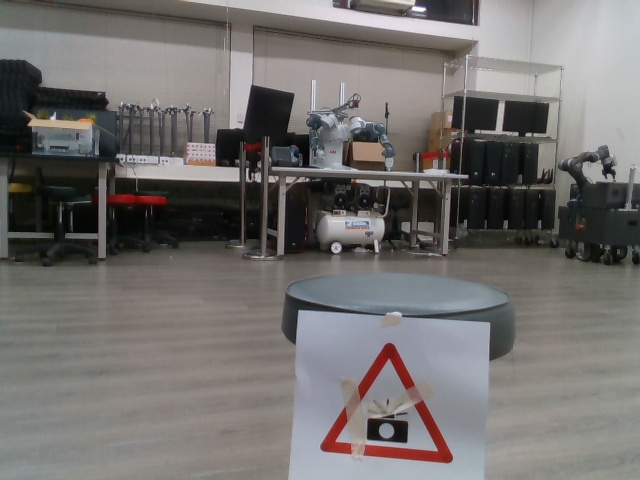camera: (317, 336, 460, 468)
